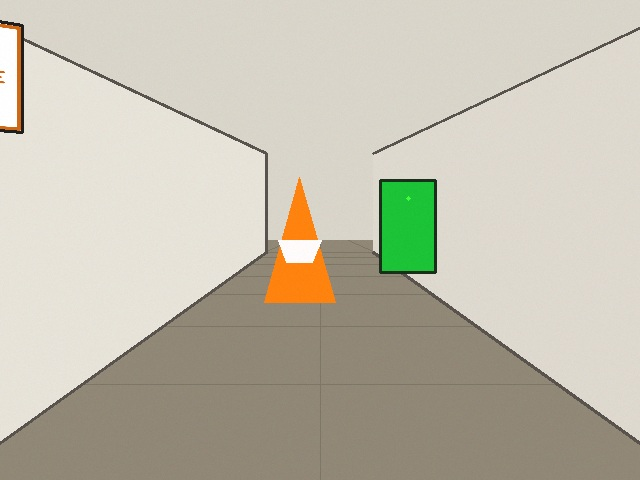charging_station: (380, 180, 435, 272)
directional_sign: (0, 0, 22, 132)
obstacle: (264, 177, 335, 302)
